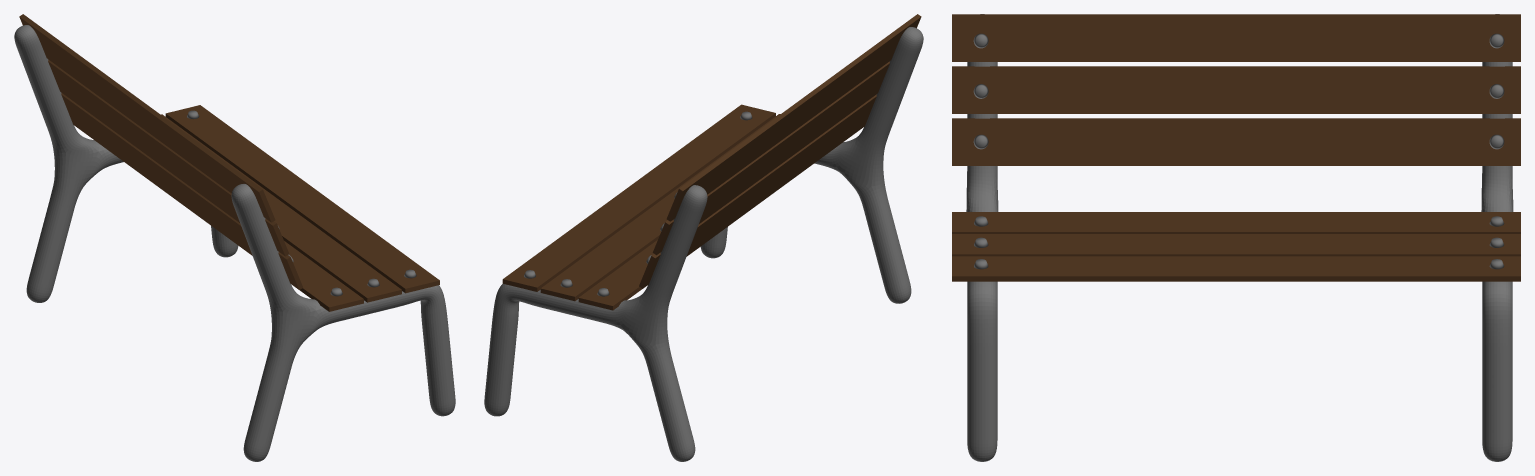
File: bench.fbx
3 views of the same model, side by side, from view 1: azimuth 30°, elevation 25°; view 2: azimuth 150°, elevation 25°; view 3: azimuth 270°, elevation 25° (orthographic). The views are drawn at different scales.
Parts seen in each view (by area): view 1: Cube.001, Cube; view 2: Cube.001, Cube; view 3: Cube.001, Cube, Cylinder, Cylinder.001.
Part boxes in pixels (x1=…): Cube.001: x1=19, y1=14, x2=439, y2=311; Cube: x1=14, y1=25, x2=455, y2=461; Cube.001: x1=502, y1=14, x2=921, y2=310; Cube: x1=484, y1=27, x2=923, y2=461; Cube.001: x1=952, y1=14, x2=1520, y2=281; Cube: x1=966, y1=14, x2=1513, y2=461; Cylinder: x1=973, y1=33, x2=1504, y2=149; Cylinder.001: x1=974, y1=216, x2=1504, y2=269.
Size of the model in its own units: 172 by 211 by 325.
